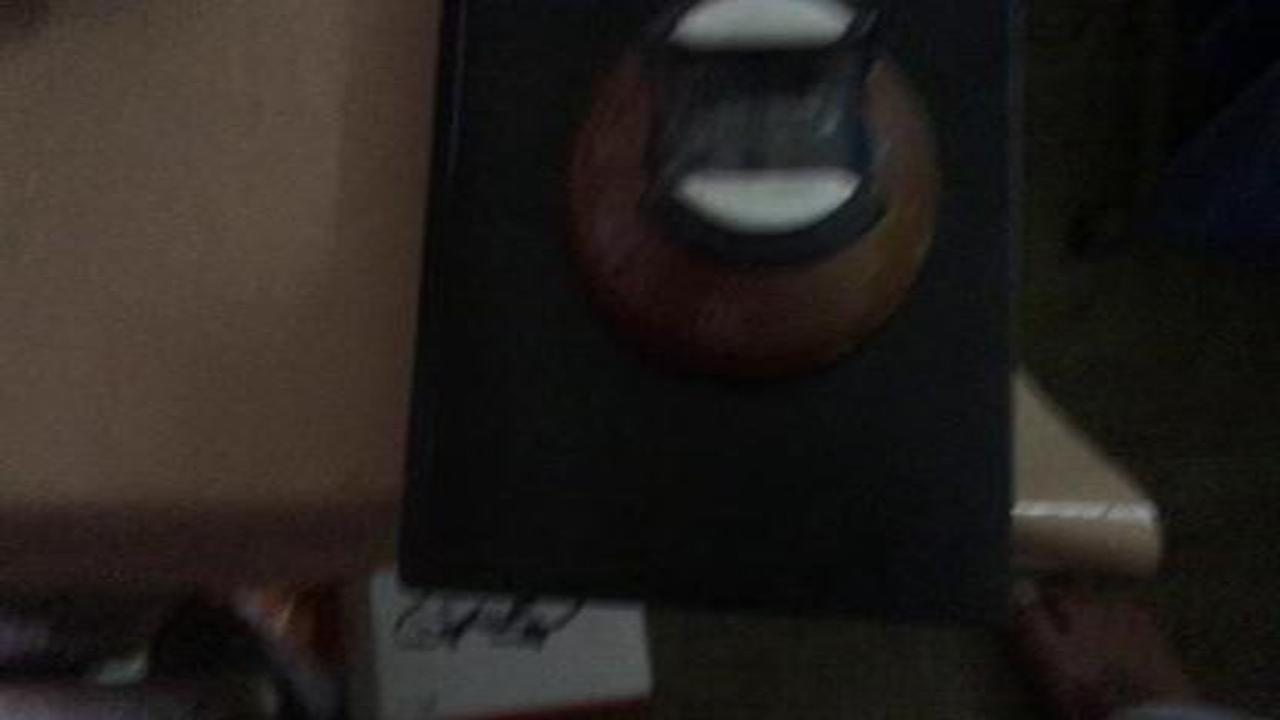insulator_pin: (524, 1, 961, 392)
